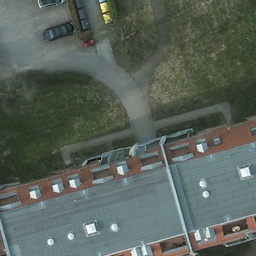car: (44, 22, 74, 39), (36, 0, 66, 12)
